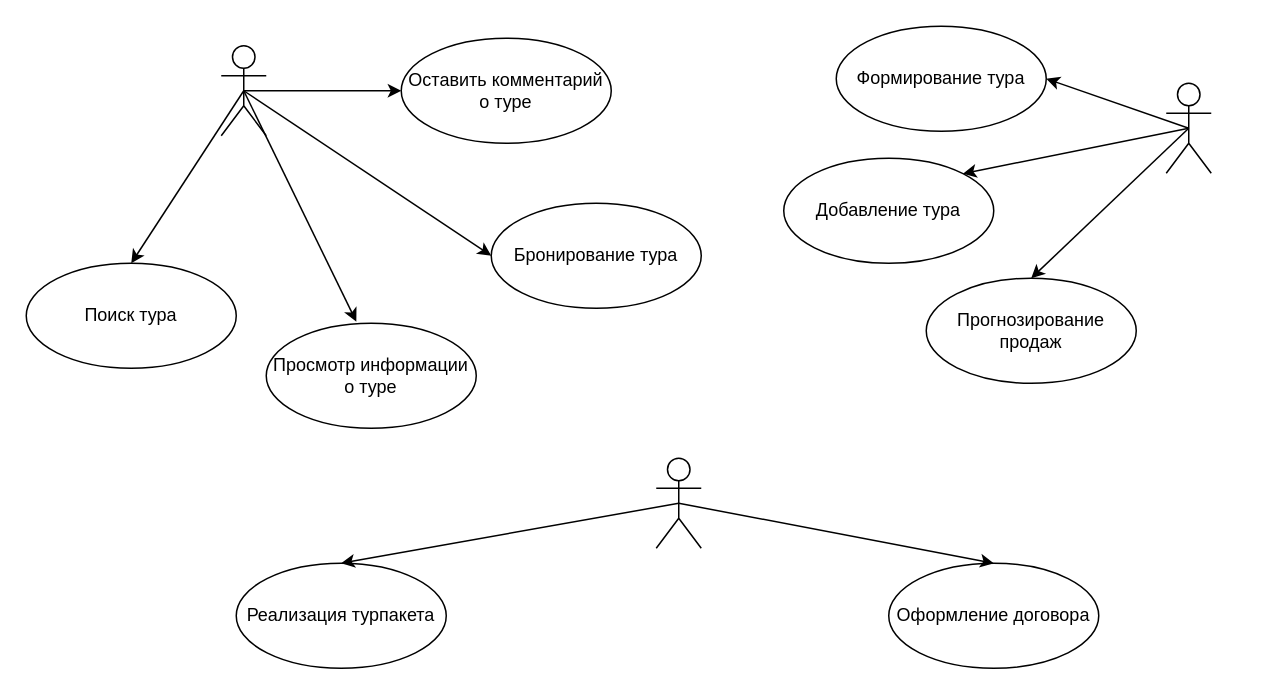
Some shapes in this 1268 by 695 pixel diagram are drawn without their labels. Each missing label, with the centre of its shape:
"Клиент" belongs at (x=243, y=90).
"Турагент" belongs at (x=678, y=502).
"Туроператор" belongs at (x=1188, y=127).
